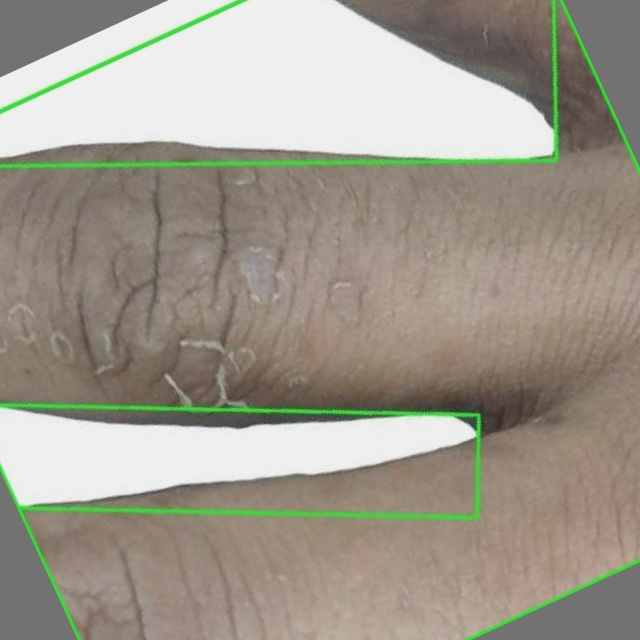Scabies: (0, 0, 639, 639), (0, 0, 556, 195), (0, 405, 478, 517)
